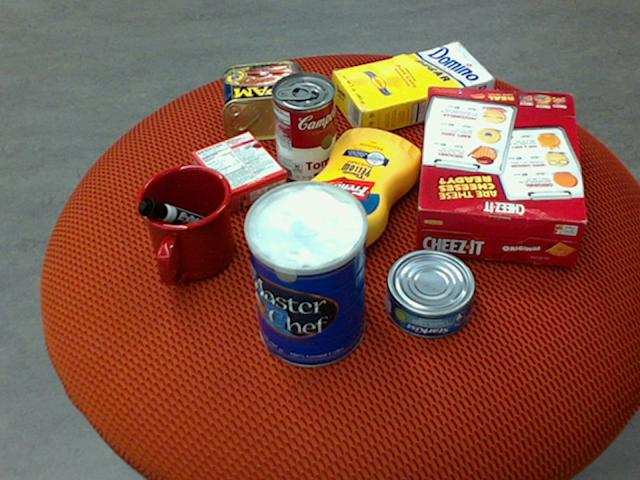cracker_box: (415, 85, 587, 264)
gelatin_box: (190, 130, 285, 214)
large_marker: (136, 198, 225, 239)
master_chef_can: (241, 182, 365, 368)
mug: (133, 165, 234, 285)
mustard_bottle: (294, 127, 422, 269)
potted_meat_can: (223, 60, 312, 141)
sugar_box: (330, 40, 494, 136)
tomato_soup_can: (272, 70, 335, 181)
tuna_fish_can: (385, 249, 476, 338)
